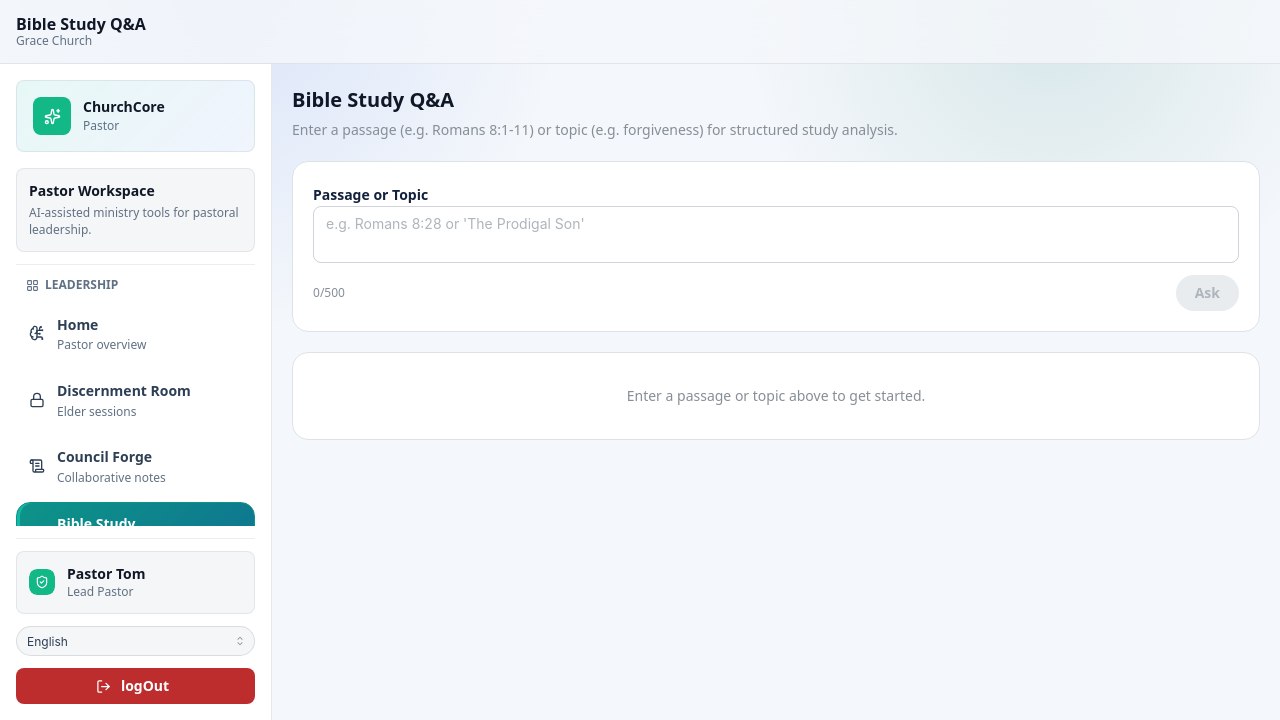
BibleStudyClient › updates character counter as user types
The width and height of the screenshot is (1280, 720).
Type "Hello" into the text box labelled "Passage or Topic".
click(776, 235); type("Hello")  # box [313,206,1239,264]
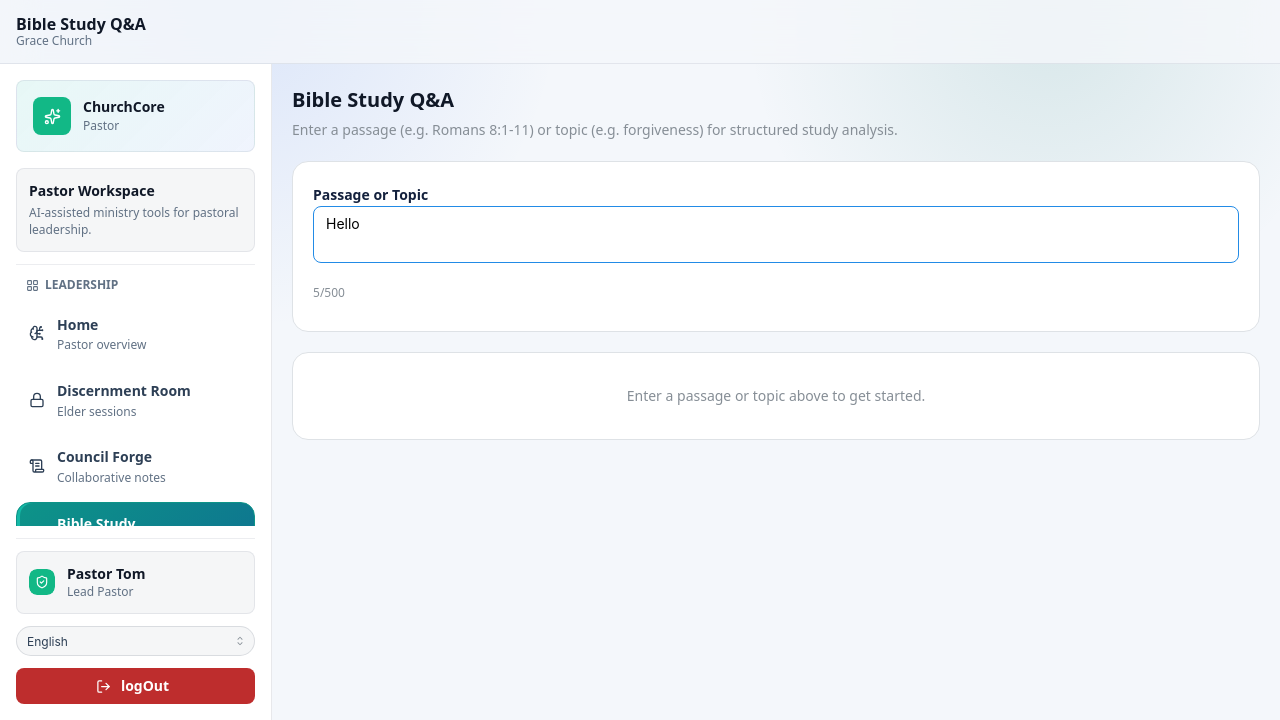
Expected: the text "5/500" is shown, [313,284,345,303]
